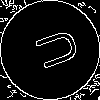U: (25, 25, 81, 75)
